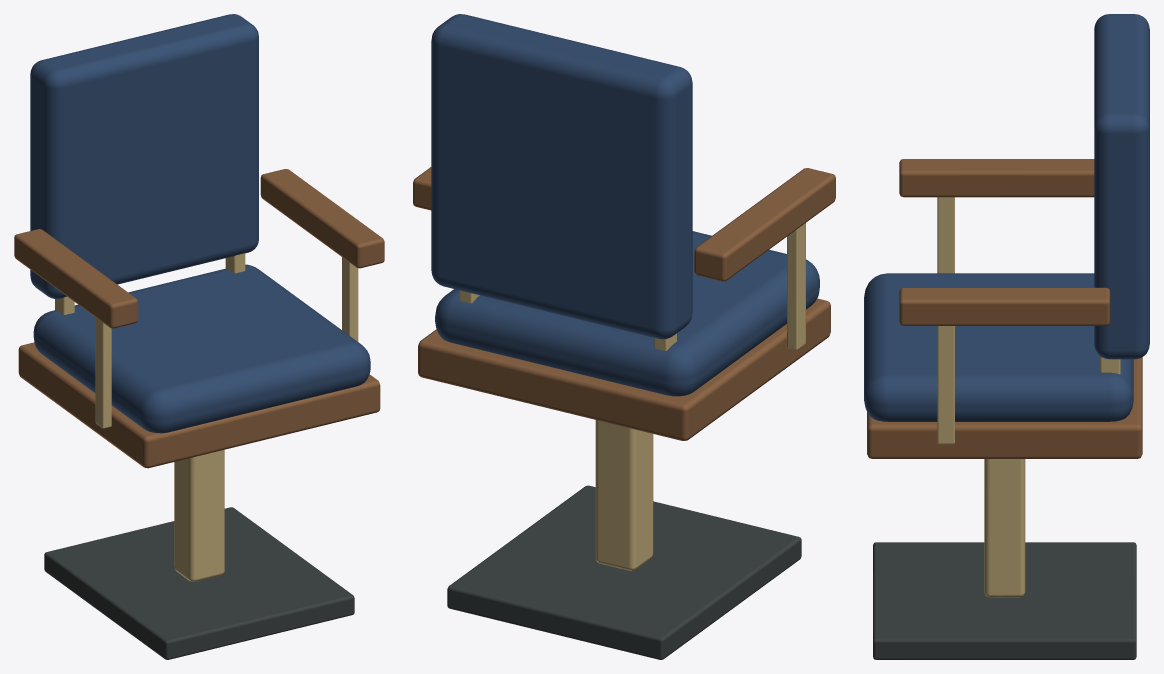
File: city-courthouse-and-records-office-city-courthouse-and-25ac3a5a__30965.glb
3 renders of one model, left to right at view 1: azimuth 30°, elevation 25°; view 2: azimuth 150°, elevation 25°; view 3: azimuth 270°, elevation 25°, orthographic. The views are drawn at different scales.
Parts seen in each view (by area): view 1: city-courthouse-and-records-office-jury-seat; view 2: city-courthouse-and-records-office-jury-seat; view 3: city-courthouse-and-records-office-jury-seat.
Part boxes in pixels (x1=…): city-courthouse-and-records-office-jury-seat: x1=14, y1=14, x2=384, y2=659; city-courthouse-and-records-office-jury-seat: x1=413, y1=14, x2=835, y2=659; city-courthouse-and-records-office-jury-seat: x1=864, y1=14, x2=1149, y2=659.
Bounding box in the file's own units: 0.58 × 1.03 × 0.4875.
